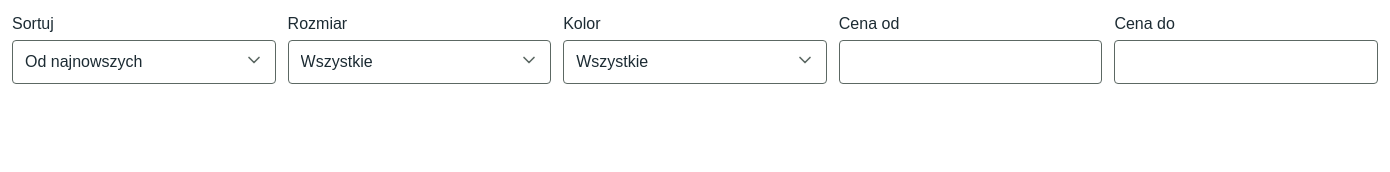
Test case: the price field › drops the error once the value is fixed
Type "1.5.5" into the field labelled "Cena od" at (971, 62), box [839,40,1102,84]
Wait 1000 ms
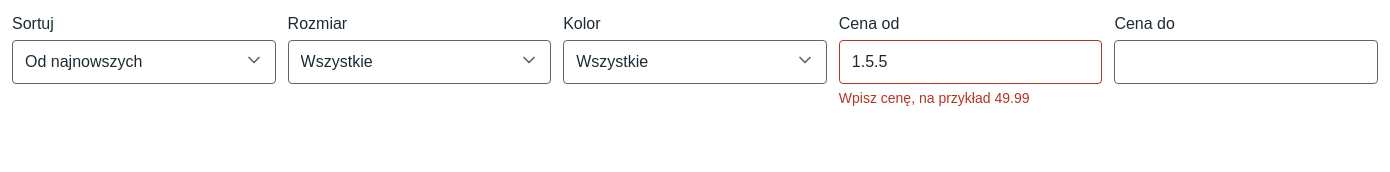
Replace the text in the field labelled "Cena od" with "1.5" at (971, 62), box [839,40,1102,84]
Wait 1000 ms
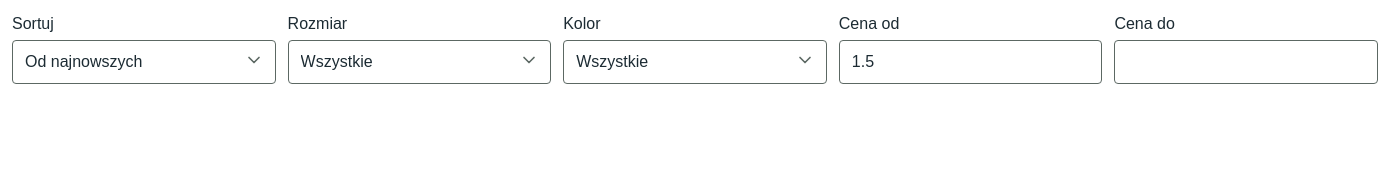
Check: the text "Wpisz cenę, na przykład 49.99" is gone
